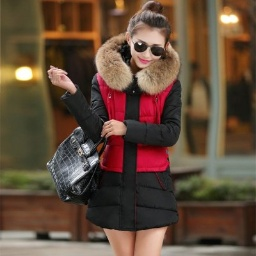face: (126, 2, 171, 70)
